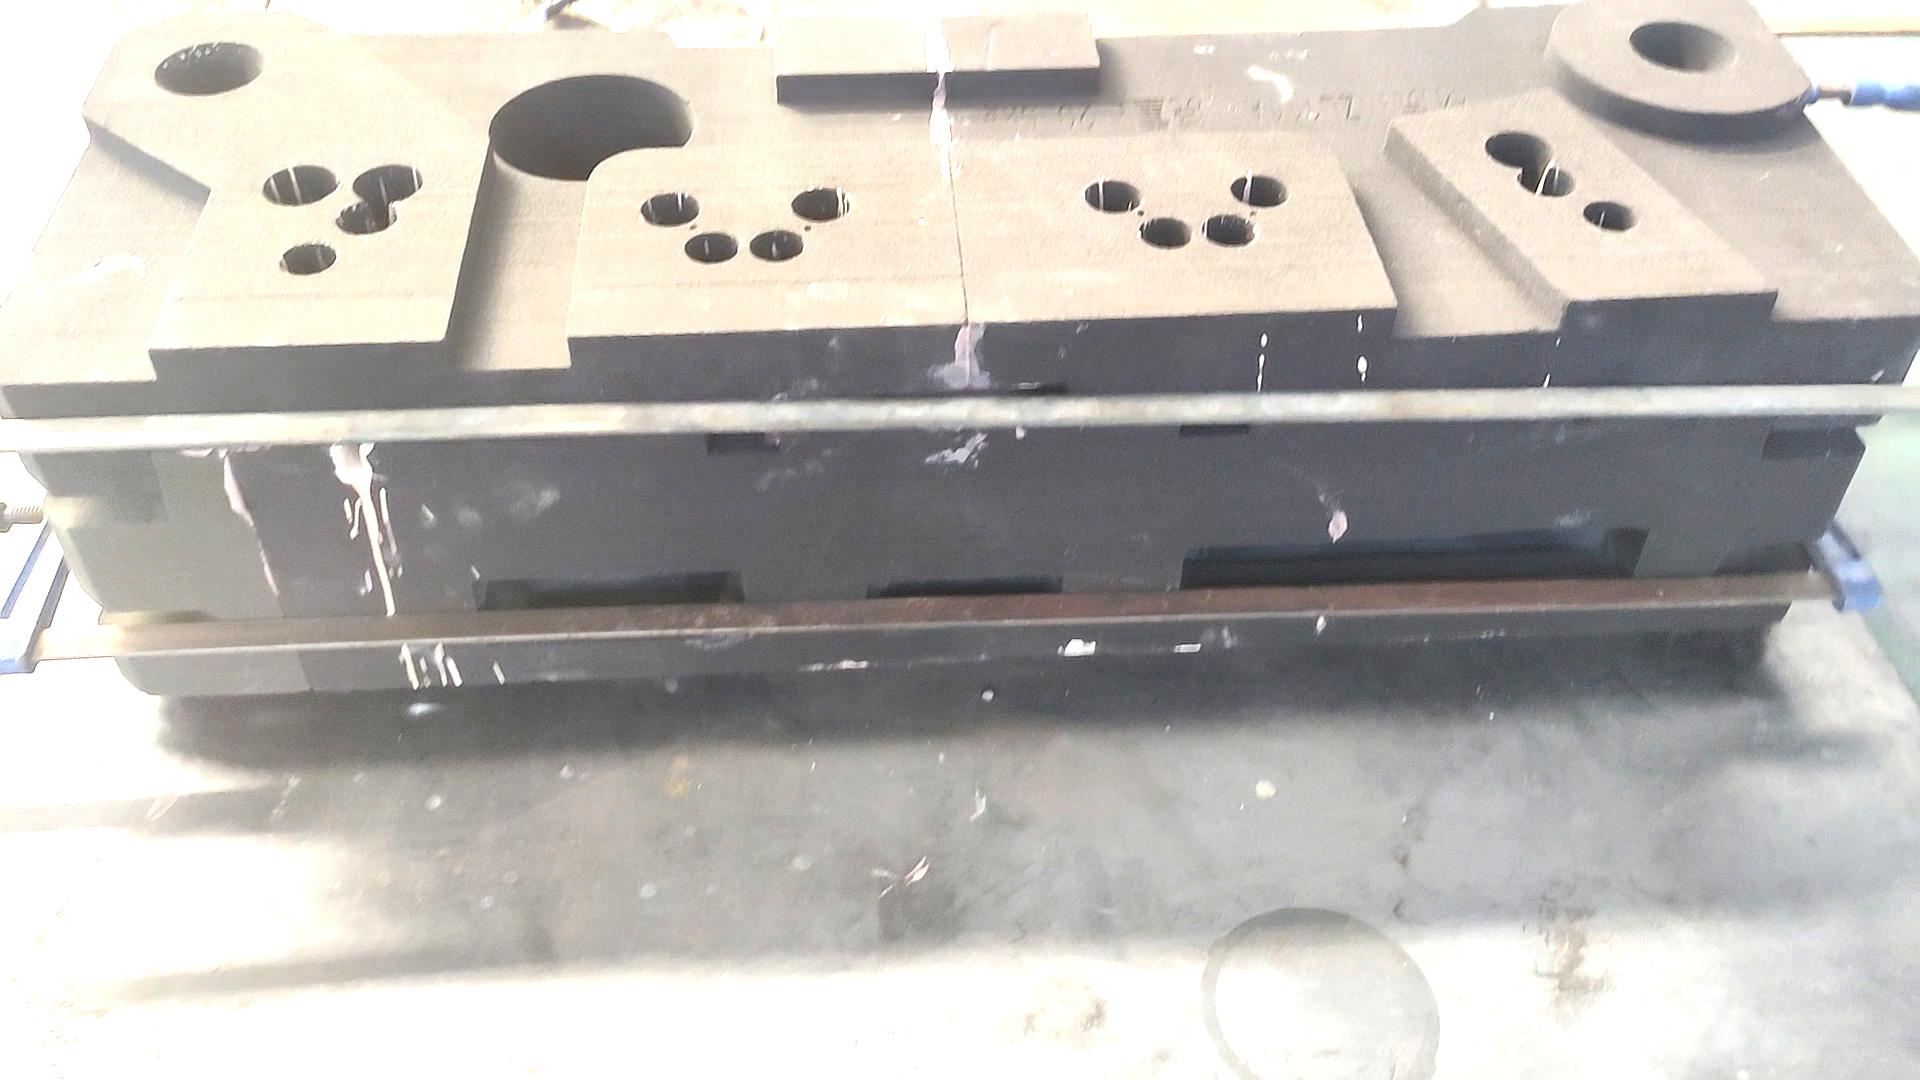pouring hole: (153, 42, 265, 98), (1629, 20, 1735, 73)
